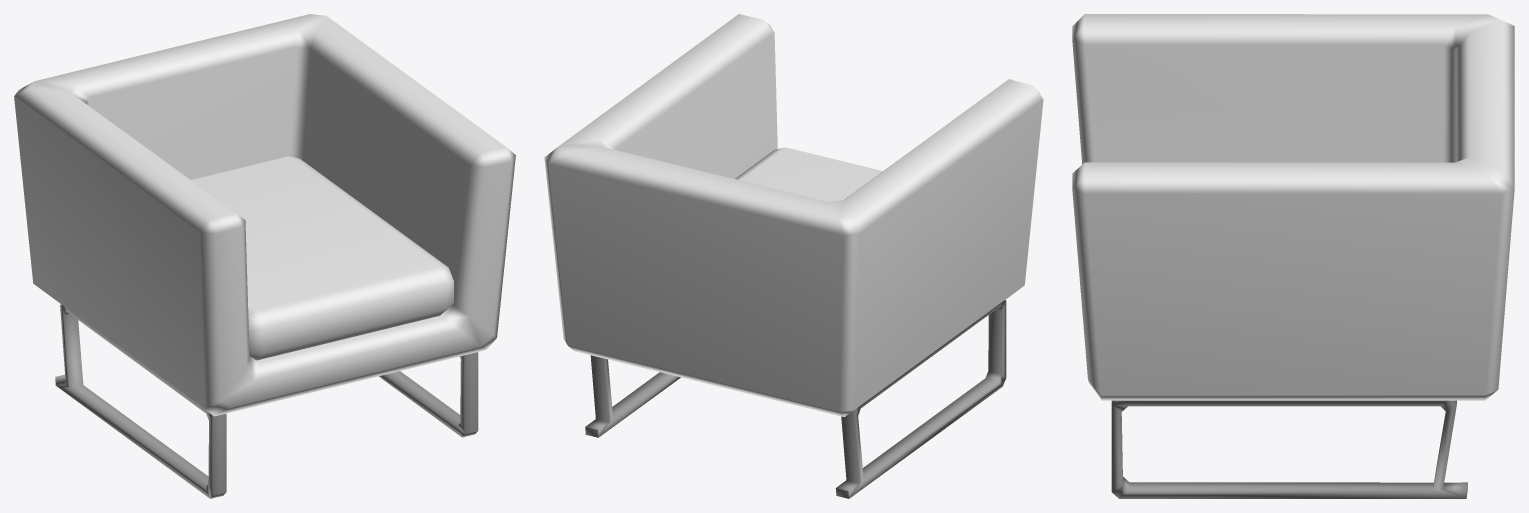
Rendered from armchair_003.glb.
3 views of the same model, side by side, from view 1: azimuth 30°, elevation 25°; view 2: azimuth 150°, elevation 25°; view 3: azimuth 270°, elevation 25° (orthographic). The views are drawn at different scales.
Visible parts, largest first — view 1: armchair_003; view 2: armchair_003; view 3: armchair_003.
Part boxes in pixels (bbox=[...]): armchair_003: bbox=[14, 14, 515, 498]; armchair_003: bbox=[544, 14, 1043, 498]; armchair_003: bbox=[1072, 14, 1514, 498].
Size of the model in its own units: 0.7688 by 0.6854 by 0.8288.
Materials: 1 (1 with a texture image).
